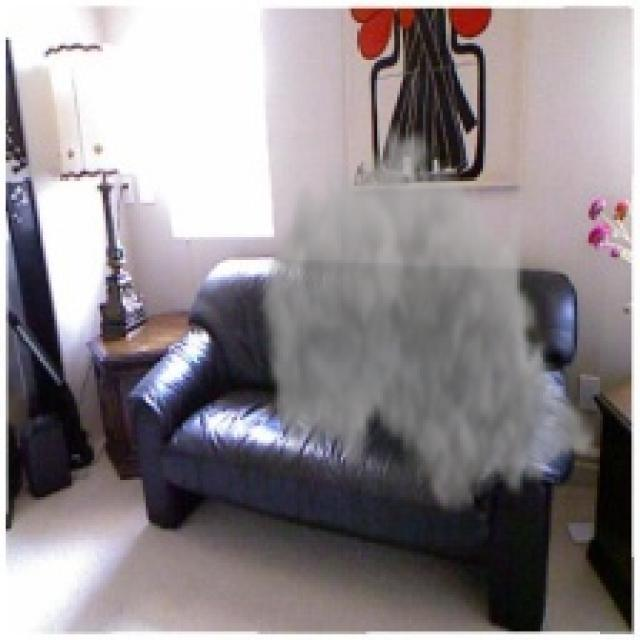Smoke: (257, 114, 600, 523)
